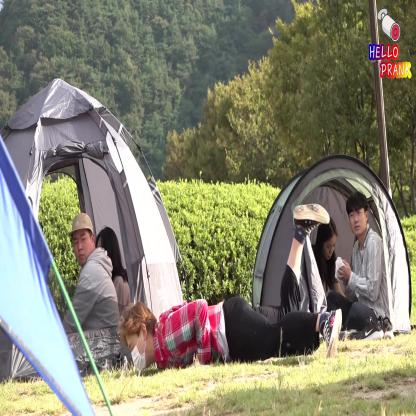Fall_Down: (119, 201, 345, 370)
